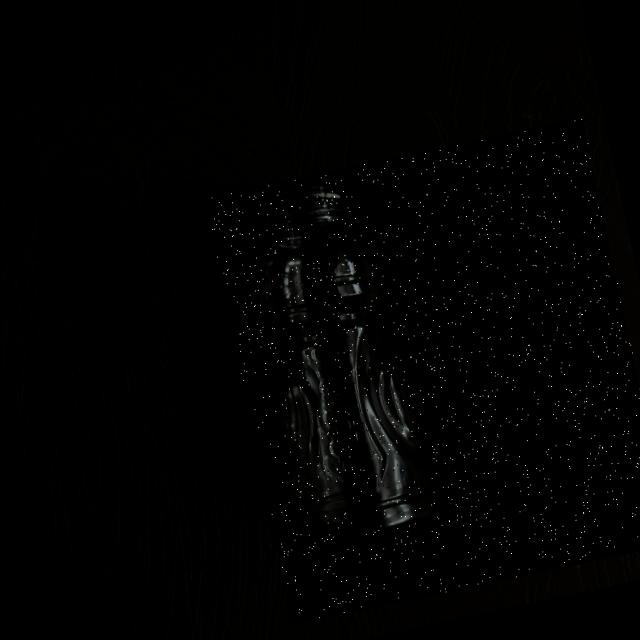PET_ClearBottle: (203, 117, 640, 624)
